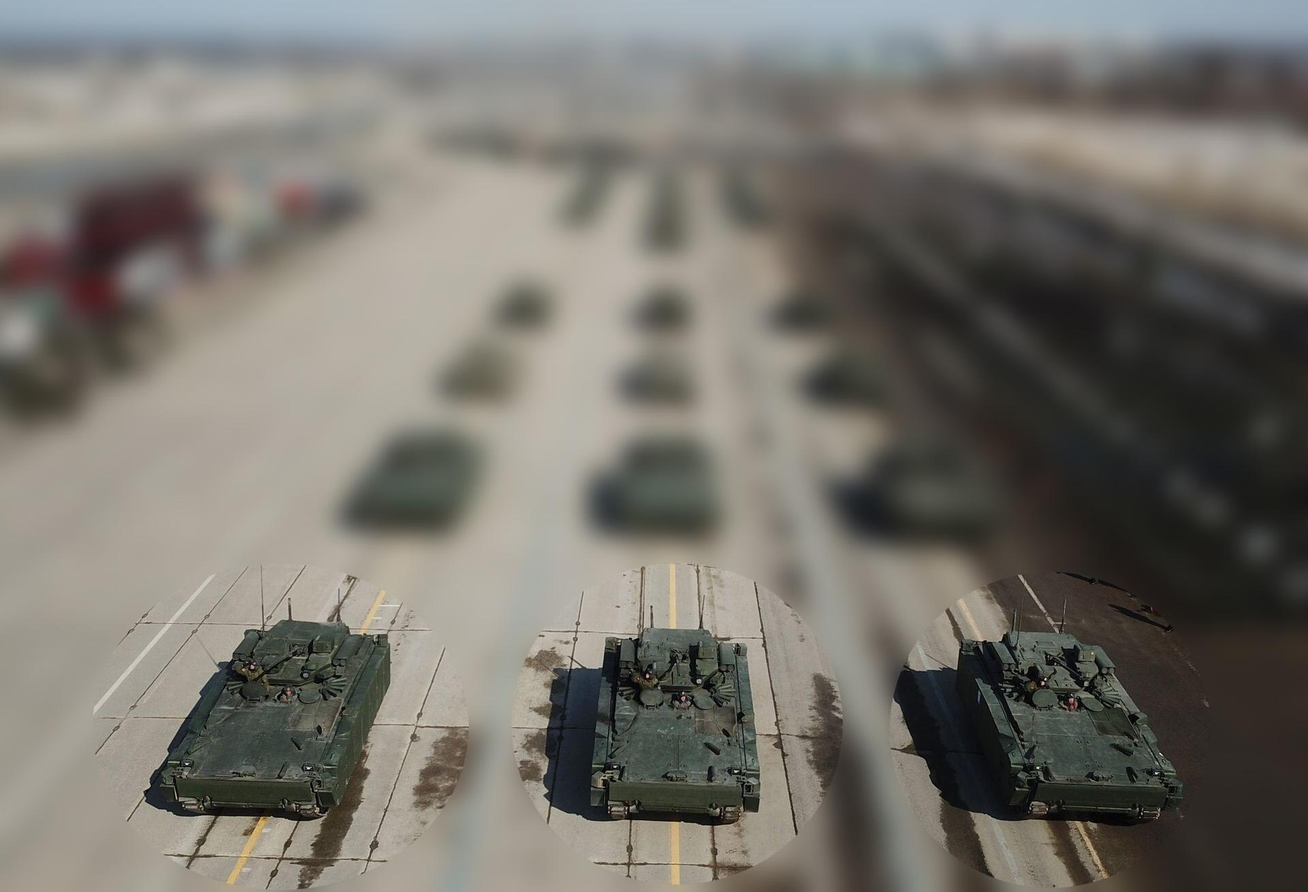armored_car: (153, 615, 395, 821), (953, 626, 1189, 830), (586, 620, 763, 828)
